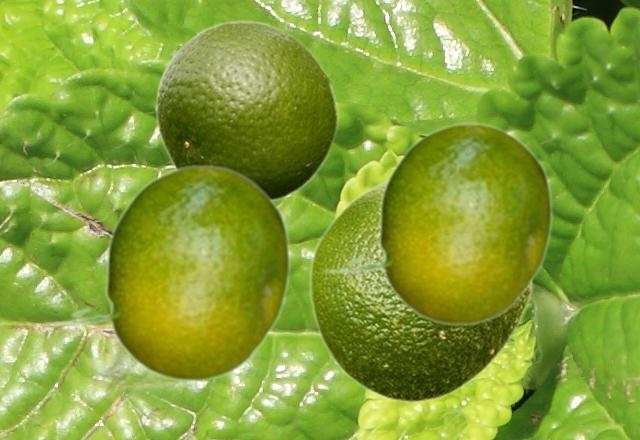calamansi: (43, 163, 290, 381), (308, 177, 532, 403), (320, 121, 552, 325), (155, 18, 338, 201)
